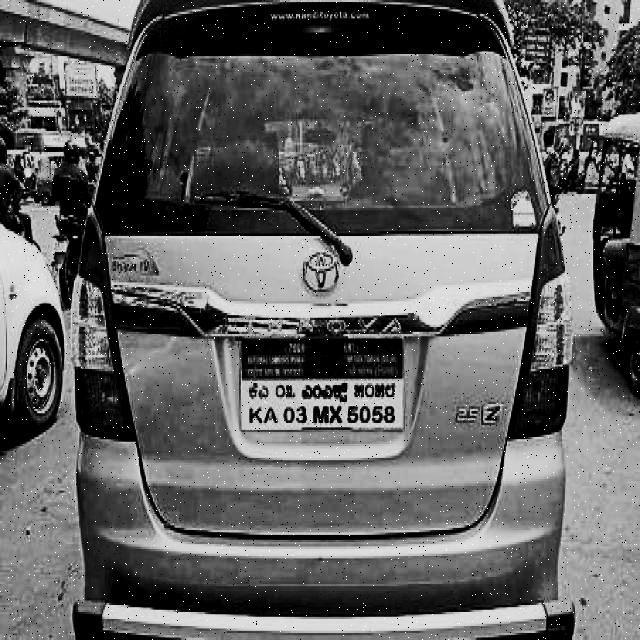Car: (72, 1, 580, 638)
